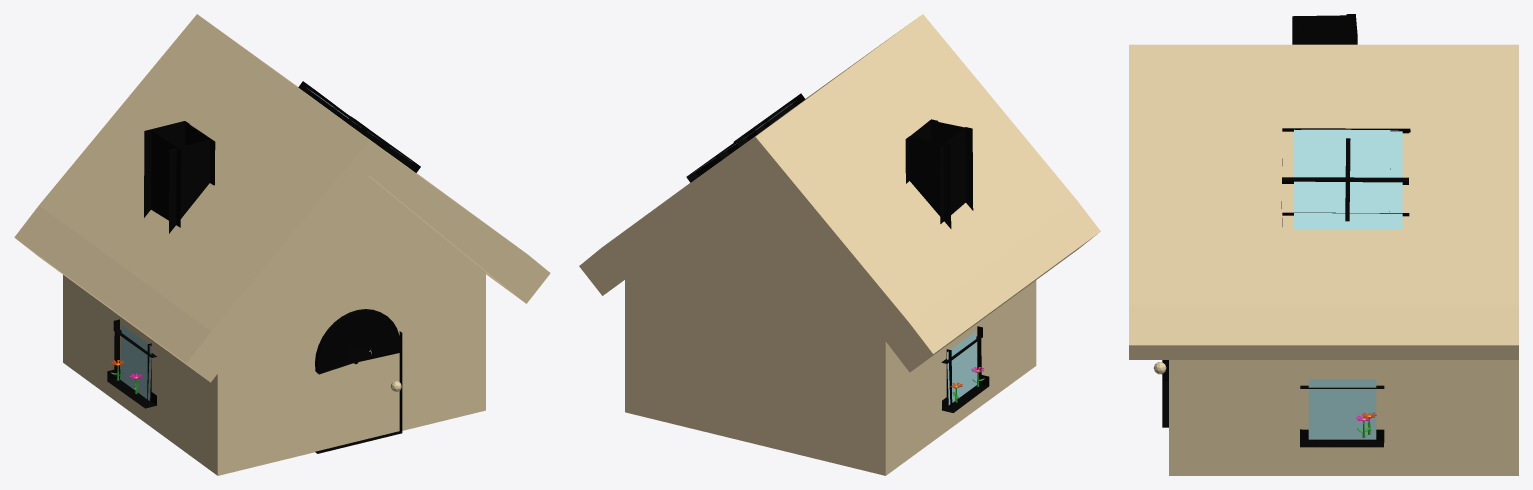
The model's file is HouseBlack.fbx.
The picture shows the model from 3 angles, left to right: view 1: azimuth 30°, elevation 25°; view 2: azimuth 150°, elevation 25°; view 3: azimuth 270°, elevation 25°; orthographic projection. The views are drawn at different scales.
Visible parts, largest first — view 1: Cube.053; view 2: Cube.053; view 3: Cube.053.
Part boxes in pixels (<box>): Cube.053: <box>14,14,550,475</box>; Cube.053: <box>579,14,1100,475</box>; Cube.053: <box>1129,14,1518,475</box>.
Bounding box in the file's own units: 47.49 × 39.38 × 38.92.
